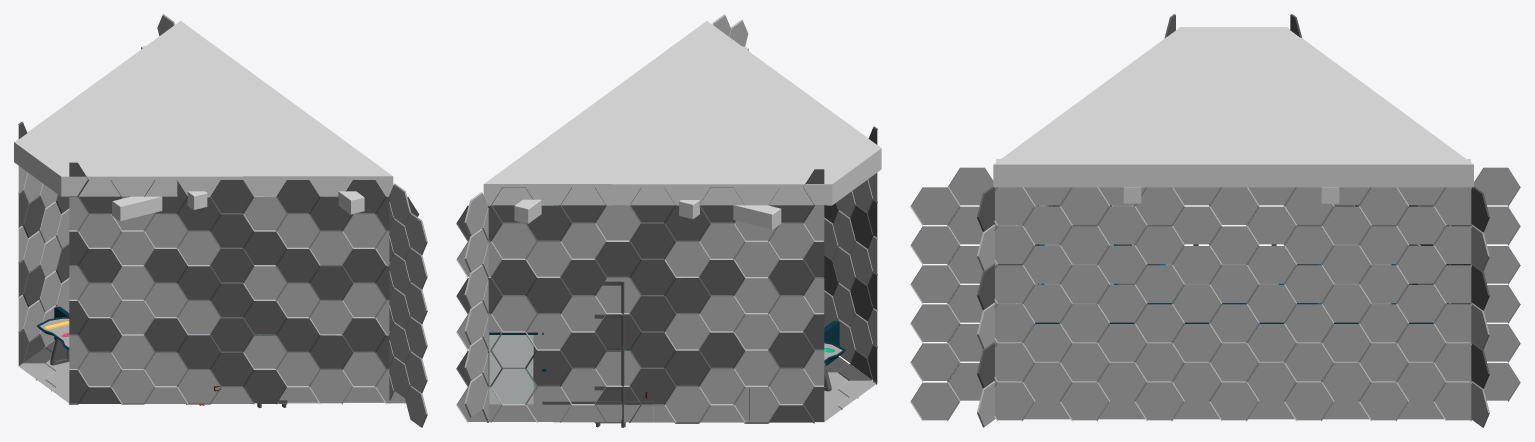
The model's file is Level0.fbx.
The picture shows the model from 3 angles, left to right: view 1: azimuth 30°, elevation 25°; view 2: azimuth 150°, elevation 25°; view 3: azimuth 270°, elevation 25°; orthographic projection. The views are drawn at different scales.
Visible parts, largest first — view 1: Wall_R, Ceiling, Wall_L, Wall_Back, Boden, UpperFloor, Cube.017, Table, Cube.014; view 2: Wall_L, Ceiling, Wall_R, Wall_Back, Schrank.002, UpperFloor, Boden, Tisch.003, Cube.016, Cube.014, Table, Trennwand.003; view 3: Wall_Back, Ceiling, Wall_L, UpperFloor, Wall_R, Circle.006.
Part boxes in pixels (bbox=[...]): Wall_R: bbox=[69, 162, 419, 404]; Ceiling: bbox=[14, 21, 393, 196]; Wall_L: bbox=[18, 121, 69, 365]; Wall_Back: bbox=[157, 14, 427, 427]; Boden: bbox=[19, 340, 209, 404]; UpperFloor: bbox=[188, 335, 384, 403]; Cube.017: bbox=[112, 196, 209, 220]; Table: bbox=[37, 317, 69, 365]; Cube.014: bbox=[141, 45, 364, 214]; Wall_L: bbox=[456, 169, 824, 422]; Ceiling: bbox=[483, 21, 881, 205]; Wall_R: bbox=[770, 126, 877, 382]; Wall_Back: bbox=[464, 14, 748, 422]; Schrank.002: bbox=[489, 332, 543, 404]; UpperFloor: bbox=[492, 316, 769, 422]; Boden: bbox=[631, 356, 877, 423]; Tisch.003: bbox=[594, 278, 682, 427]; Cube.016: bbox=[676, 205, 781, 229]; Cube.014: bbox=[514, 46, 748, 223]; Table: bbox=[823, 341, 845, 391]; Trennwand.003: bbox=[749, 321, 839, 419]; Wall_Back: bbox=[910, 167, 1520, 421]; Ceiling: bbox=[993, 27, 1473, 187]; Wall_L: bbox=[1290, 14, 1489, 427]; UpperFloor: bbox=[1024, 400, 1443, 419]; Wall_R: bbox=[977, 14, 1175, 427]; Circle.006: bbox=[1041, 244, 1394, 304].
Bounding box in the file's own units: 493 × 436 × 858.
